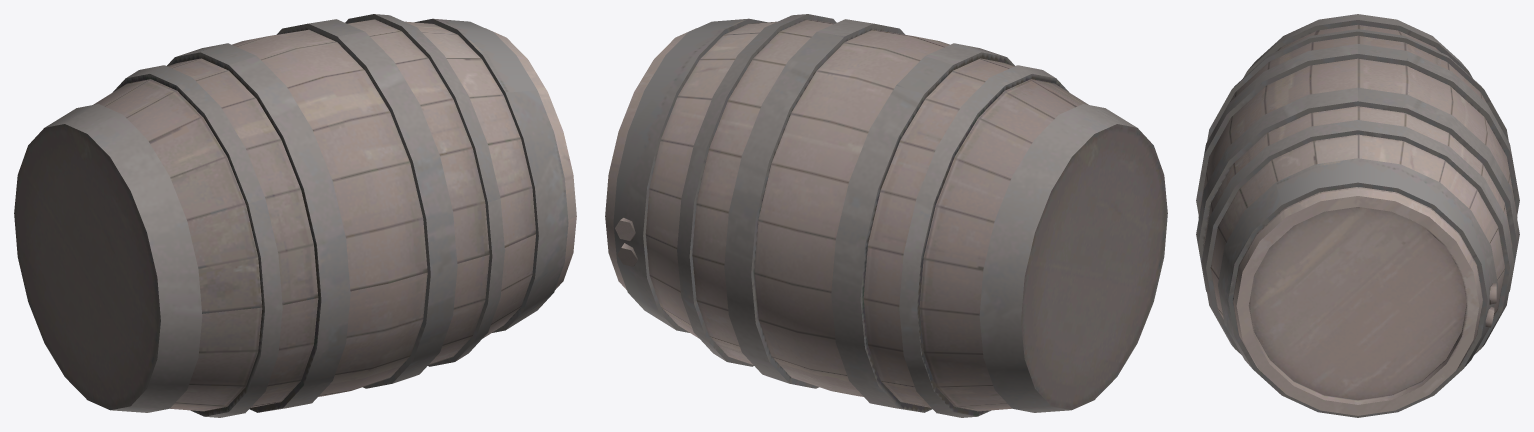
The model's file is props_farm_wooden_barrel.glb.
The picture shows the model from 3 angles, left to right: view 1: azimuth 30°, elevation 25°; view 2: azimuth 150°, elevation 25°; view 3: azimuth 270°, elevation 25°; orthographic projection. The views are drawn at different scales.
Parts seen in each view (by area): view 1: models/props_farm/wooden_barrel; view 2: models/props_farm/wooden_barrel; view 3: models/props_farm/wooden_barrel.
Part boxes in pixels (left/top/right/bottom): models/props_farm/wooden_barrel: left=14, top=14, right=576, bottom=417; models/props_farm/wooden_barrel: left=605, top=14, right=1167, bottom=417; models/props_farm/wooden_barrel: left=1196, top=14, right=1519, bottom=417.
Size of the model in its own units: 59.99 by 46.43 by 46.43.
Materials: 1 (1 with a texture image).
